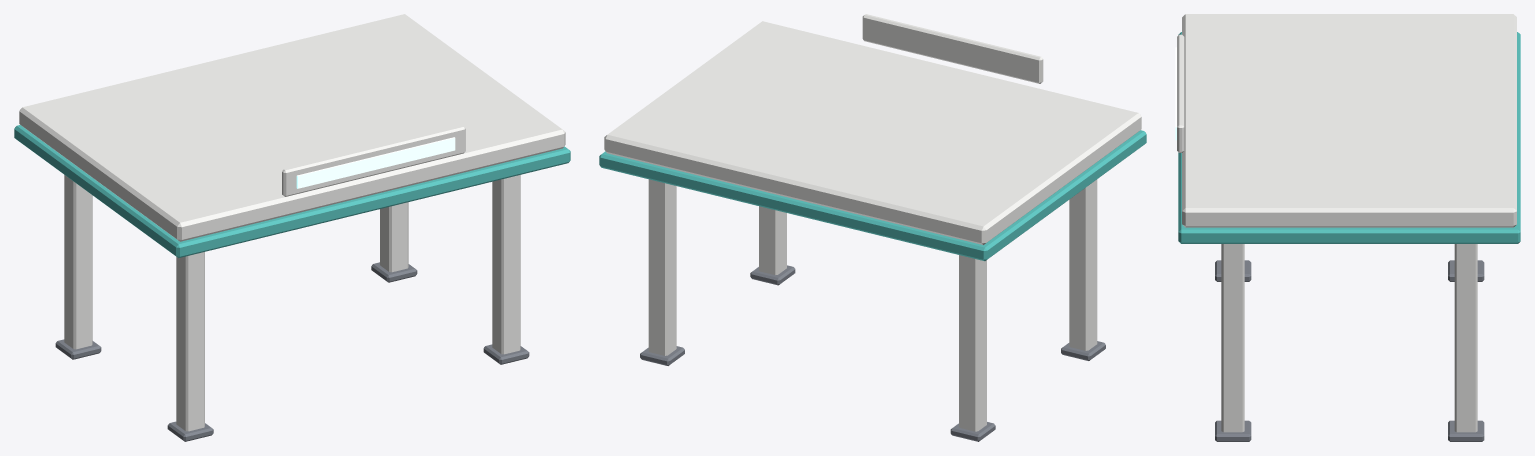
Rendered from hospital-wards-and-clinic-operations-entrance-canopy-4997a81e__23652.glb.
3 views of the same model, side by side, from view 1: azimuth 30°, elevation 25°; view 2: azimuth 150°, elevation 25°; view 3: azimuth 270°, elevation 25° (orthographic). The views are drawn at different scales.
Visible parts, largest first — view 1: entrance-canopy; view 2: entrance-canopy; view 3: entrance-canopy.
Part boxes in pixels (box(x1,y1,x2,y2)): entrance-canopy: box(14, 14, 570, 441); entrance-canopy: box(599, 14, 1146, 441); entrance-canopy: box(1175, 14, 1520, 441).
Bounding box in the file's own units: 6.5 × 4.17 × 4.74.
